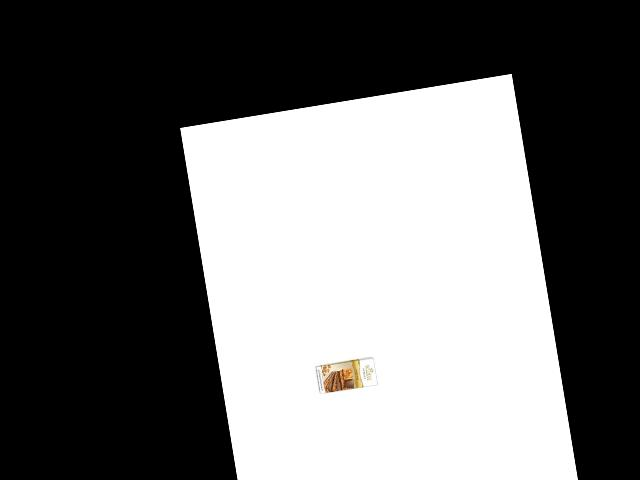chocolate: (311, 345, 382, 400)
